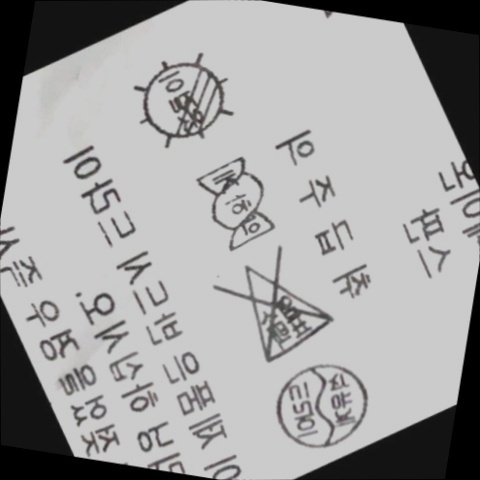dry_clean_petrol_only: (255, 347, 382, 463)
line_dry_in_shade: (120, 42, 248, 164)
non_chlorine_bleach: (211, 239, 344, 377)
wring: (178, 148, 288, 261)
